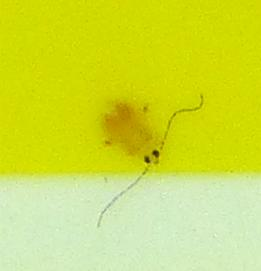Coleoptera: (100, 100, 161, 171)
